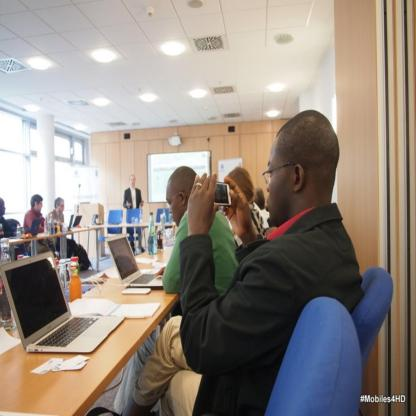board: (1, 250, 126, 354), (104, 232, 164, 290), (69, 256, 82, 303), (148, 210, 158, 254), (61, 213, 73, 233), (160, 214, 166, 245), (31, 218, 41, 236), (73, 213, 82, 228), (49, 214, 55, 234), (44, 214, 48, 234), (16, 223, 21, 238), (162, 208, 166, 225), (168, 207, 172, 224), (0, 224, 4, 238)
